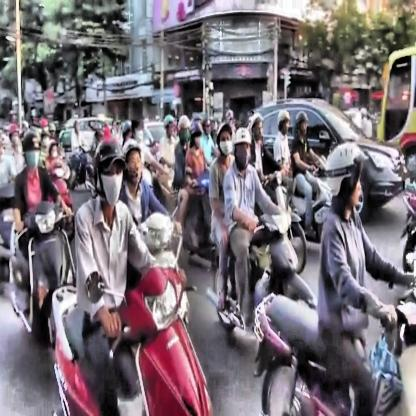wear: (325, 138, 367, 209), (92, 138, 124, 201), (233, 126, 253, 168), (23, 131, 42, 169), (189, 120, 204, 149), (295, 110, 308, 139), (278, 108, 290, 136), (164, 112, 174, 139)
